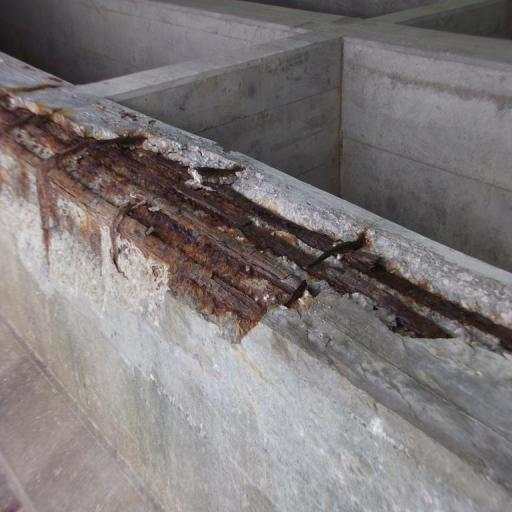spalling: (2, 70, 501, 367)
